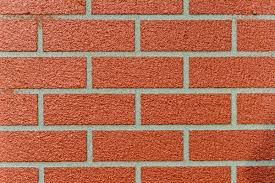brick: (91, 129, 185, 162), (42, 19, 135, 52), (139, 19, 231, 51), (91, 56, 184, 87), (42, 93, 135, 124), (1, 130, 88, 163), (140, 93, 231, 124), (1, 56, 87, 88), (189, 56, 274, 88), (188, 130, 275, 161), (141, 166, 231, 183), (43, 167, 136, 183), (1, 18, 38, 52), (237, 92, 275, 125), (90, 1, 184, 14), (188, 1, 275, 15), (236, 19, 274, 51), (1, 93, 38, 125), (1, 1, 85, 14), (235, 166, 275, 182), (1, 167, 39, 182)
